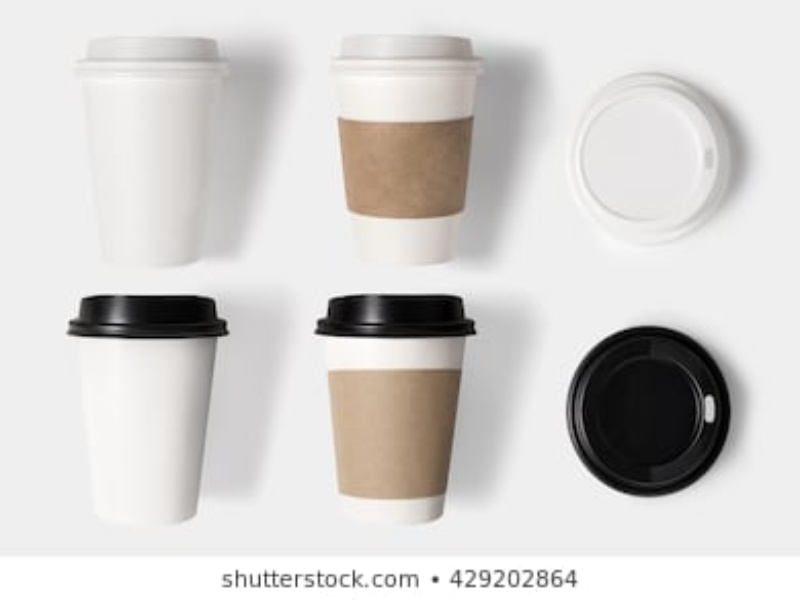coffee-lid: (566, 72, 733, 249), (566, 323, 733, 500), (69, 33, 229, 77), (314, 294, 474, 338), (68, 294, 228, 338), (327, 35, 487, 79)
plastic-cup: (69, 35, 229, 264), (314, 295, 474, 524), (327, 34, 487, 263), (69, 295, 229, 524)
